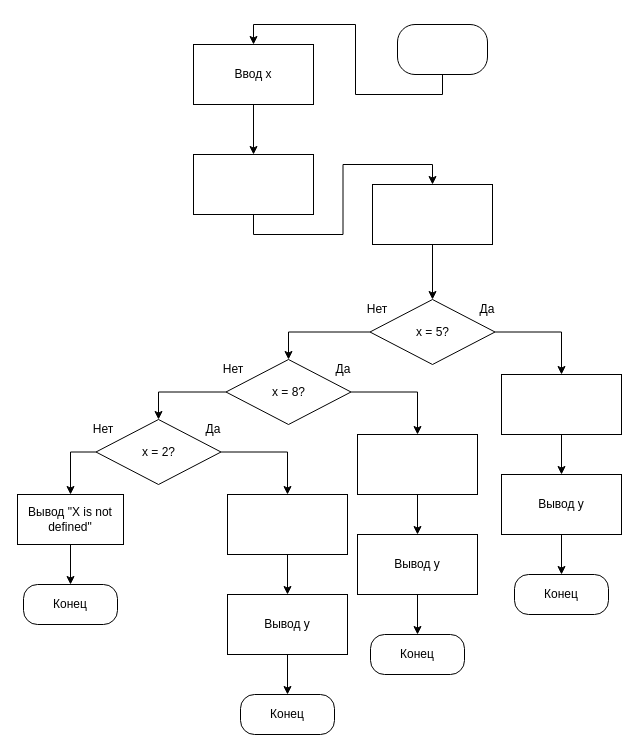
Some shapes in this 639 by 752 pixel diagram are drawn without their labels. The centre of each missing label's shape, as x and y in pixels:
"Начало" goes at (x=442, y=49).
"Перевод a, b, x, e во Float" goes at (x=432, y=214).
"Присваевам: y = b * Sin(a / x)" goes at (x=417, y=464).
"Присваевам: y = e^x + ln(|x|)" goes at (x=287, y=524).
"Присваевам: y = x + (Сos(a*x) / x**2 + 1)" goes at (x=561, y=404).
"Присвоение: a = 3.9 b = 4.6 e = 2.71828182846" goes at (x=253, y=184).
